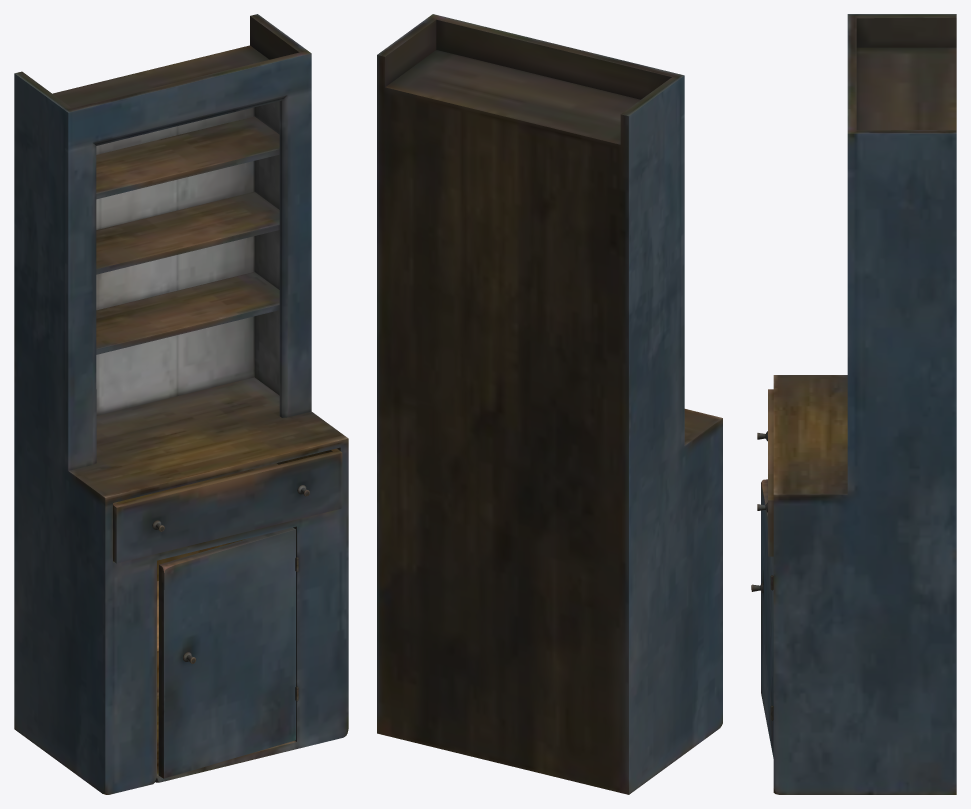
File: painted_wooden_cabinet_02.glb
3 renders of one model, left to right at view 1: azimuth 30°, elevation 25°; view 2: azimuth 150°, elevation 25°; view 3: azimuth 270°, elevation 25°, orthographic. The views are drawn at different scales.
Visible parts, largest first — view 1: painted_wooden_cabinet_02, painted_wooden_cabinet_02_door, painted_wooden_cabinet_02_drawer; view 2: painted_wooden_cabinet_02; view 3: painted_wooden_cabinet_02, painted_wooden_cabinet_02_door, painted_wooden_cabinet_02_drawer.
Boxes of the visible parts, <box> form: painted_wooden_cabinet_02: <box>14,14,348,794</box>; painted_wooden_cabinet_02_door: <box>158,527,295,778</box>; painted_wooden_cabinet_02_drawer: <box>113,448,342,563</box>; painted_wooden_cabinet_02: <box>377,14,722,794</box>; painted_wooden_cabinet_02: <box>770,14,956,794</box>; painted_wooden_cabinet_02_door: <box>751,479,773,758</box>; painted_wooden_cabinet_02_drawer: <box>757,389,773,556</box>.
Bounding box in the file's own units: 0.997 × 2.57 × 0.7223.
1 material, 1 textured.
